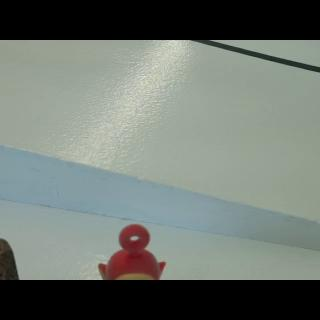teletubby: (98, 224, 165, 280)
